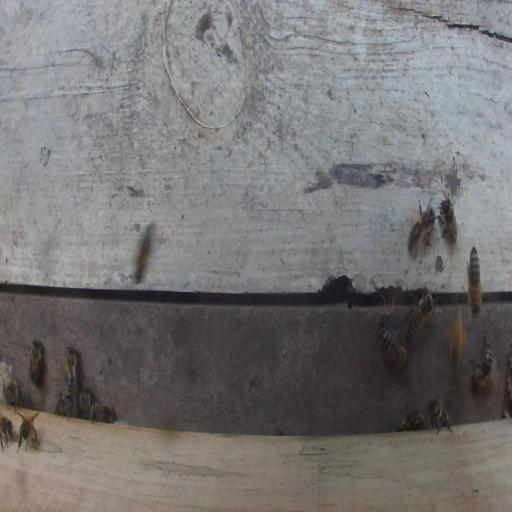bee: (405, 287, 435, 341), (408, 199, 436, 253), (445, 305, 468, 369), (379, 325, 409, 371), (468, 335, 492, 391), (134, 222, 155, 284), (467, 245, 482, 318), (438, 194, 458, 246), (15, 410, 39, 453), (429, 395, 452, 435), (397, 404, 426, 431), (29, 338, 44, 385), (65, 344, 77, 400), (0, 413, 17, 451), (89, 402, 116, 423), (53, 393, 74, 417), (4, 378, 21, 406), (78, 387, 92, 420), (60, 407, 60, 408)
